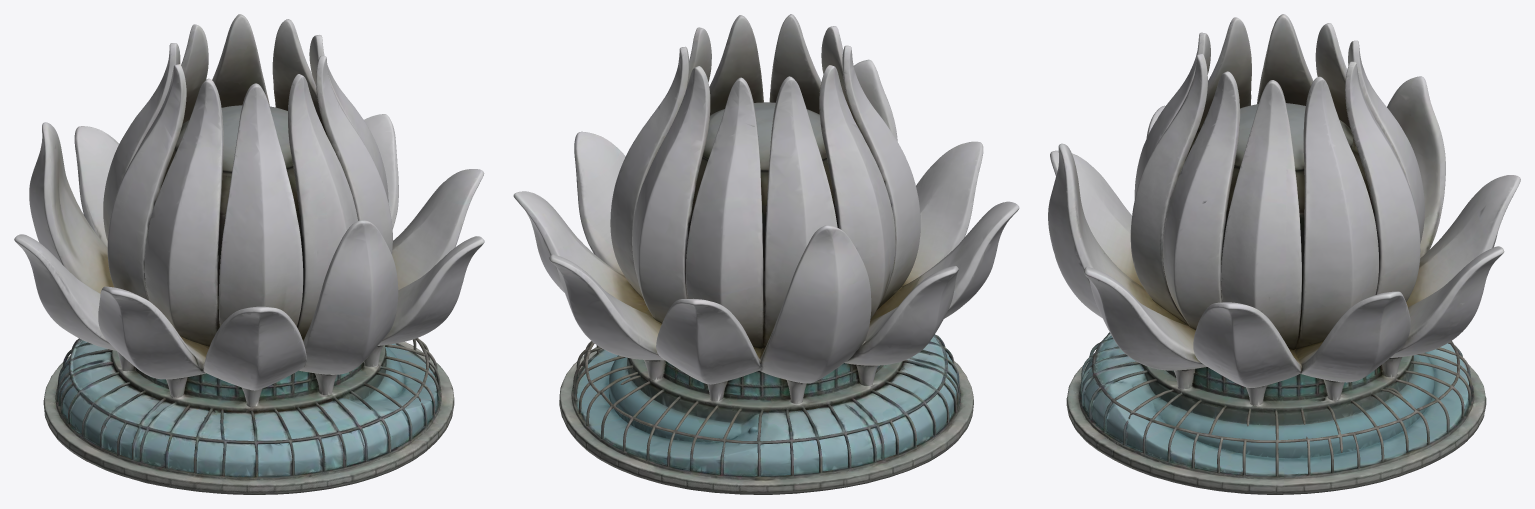
The model's file is artscience.glb.
3 renders of one model, left to right at view 1: azimuth 30°, elevation 25°; view 2: azimuth 150°, elevation 25°; view 3: azimuth 270°, elevation 25°, orthographic.
Parts seen in each view (by area): view 1: tripo_node_e563eda1-fb5a-4b69-ac95-f1648e05c1c9; view 2: tripo_node_e563eda1-fb5a-4b69-ac95-f1648e05c1c9; view 3: tripo_node_e563eda1-fb5a-4b69-ac95-f1648e05c1c9.
Boxes of the visible parts, <box> form: tripo_node_e563eda1-fb5a-4b69-ac95-f1648e05c1c9: <box>14,14,484,494</box>; tripo_node_e563eda1-fb5a-4b69-ac95-f1648e05c1c9: <box>513,14,1019,494</box>; tripo_node_e563eda1-fb5a-4b69-ac95-f1648e05c1c9: <box>1048,14,1520,494</box>.
Bounding box in the file's own units: 1 × 0.8138 × 0.9653.
Materials: 1 (1 with a texture image).
